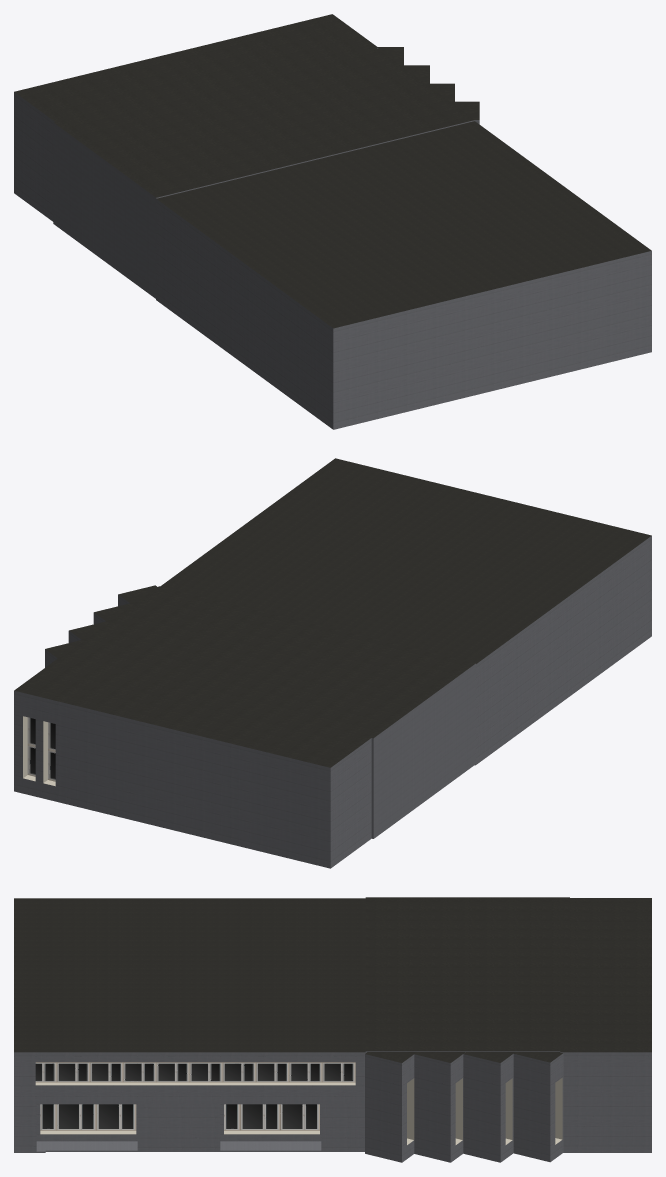
File: sport.gltf
3 renders of one model, top to bottom at view 1: azimuth 30°, elevation 25°; view 2: azimuth 150°, elevation 25°; view 3: azimuth 270°, elevation 25°, orthographic.
Parts seen in each view (by area): view 1: sport_StaticMeshComponent0; view 2: sport_StaticMeshComponent0; view 3: sport_StaticMeshComponent0.
Boxes of the visible parts, x1=… form: sport_StaticMeshComponent0: x1=14, y1=14, x2=651, y2=429; sport_StaticMeshComponent0: x1=14, y1=458, x2=651, y2=868; sport_StaticMeshComponent0: x1=14, y1=897, x2=651, y2=1162.
Size of the model in its own units: 35.39 by 10.14 by 57.66.
Materials: 5 (5 with a texture image).
